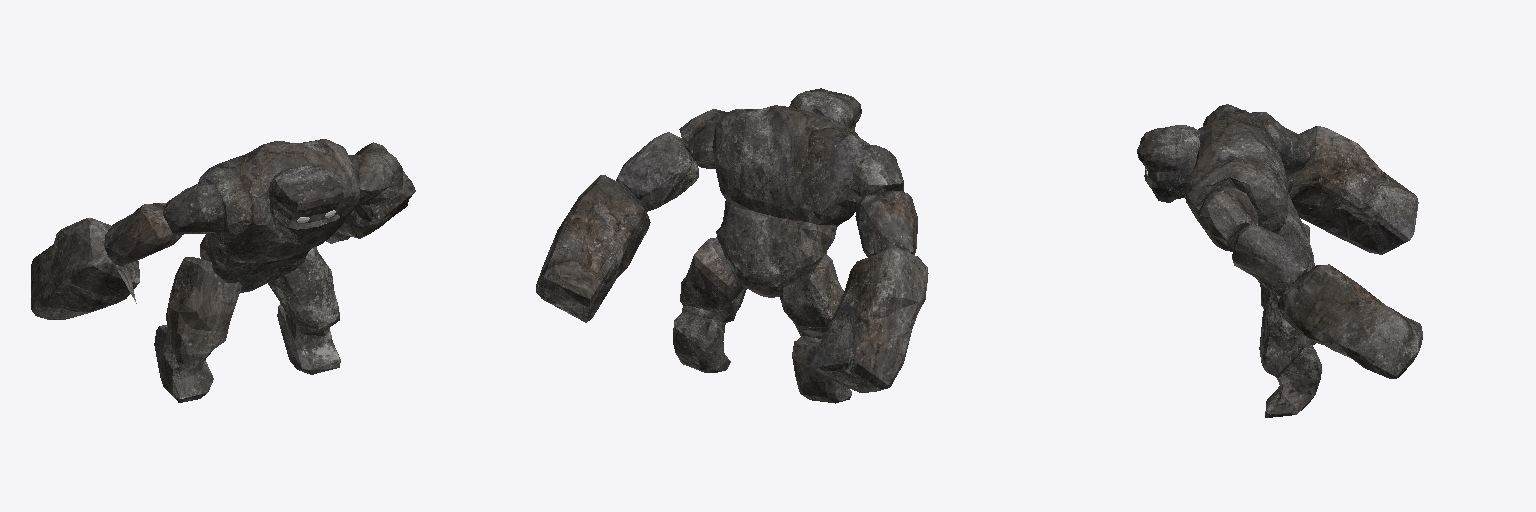
3 renders of one model, left to right at view 1: azimuth 30°, elevation 25°; view 2: azimuth 150°, elevation 25°; view 3: azimuth 270°, elevation 25°, orthographic.
Visible parts, largest first — view 1: hands&leg.001_ice.003, torso.001_ice.005, head.001_ice.004; view 2: hands&leg.001_ice.003, torso.001_ice.005, head.001_ice.004; view 3: hands&leg.001_ice.003, torso.001_ice.005, head.001_ice.004.
Part boxes in pixels (x1,y1,x2,y2): hands&leg.001_ice.003: (31,142,415,402); torso.001_ice.005: (198,139,360,292); head.001_ice.004: (269,166,343,244); hands&leg.001_ice.003: (536,109,928,403); torso.001_ice.005: (712,105,869,297); head.001_ice.004: (789,88,861,136); hands&leg.001_ice.003: (1197,104,1422,417); torso.001_ice.005: (1185,109,1314,289); head.001_ice.004: (1137,125,1201,202).
Size of the model in its own units: 11.9 by 8.3 by 8.4.
2 materials, 1 textured.